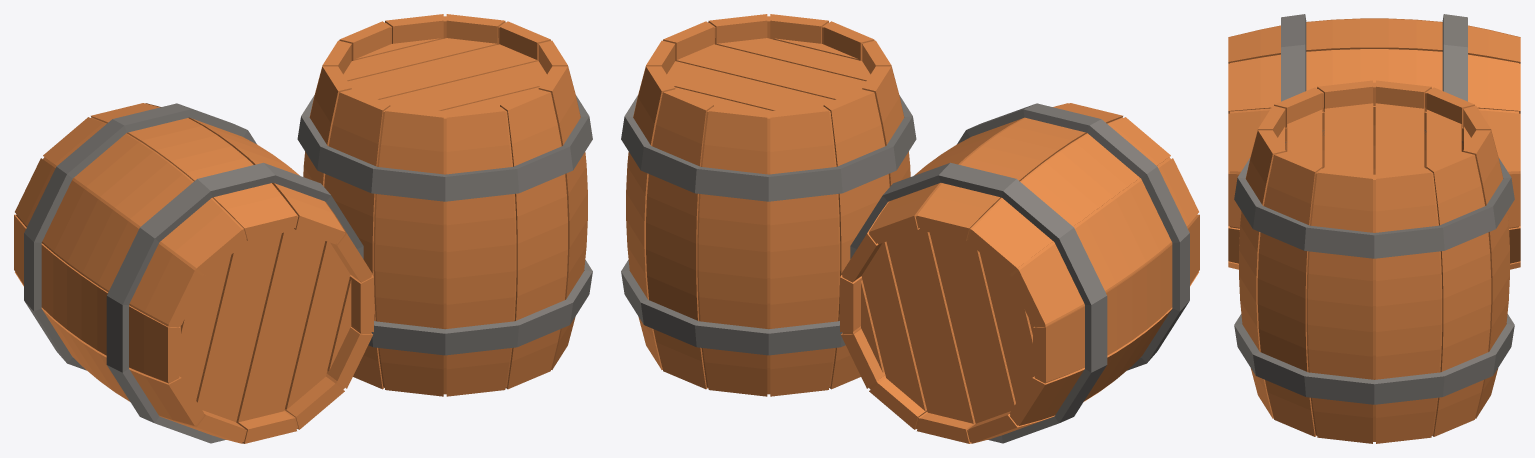
File: taru.glb
3 renders of one model, left to right at view 1: azimuth 30°, elevation 25°; view 2: azimuth 150°, elevation 25°; view 3: azimuth 270°, elevation 25°, orthographic. The views are drawn at different scales.
Parts seen in each view (by area): view 1: 円柱; view 2: 円柱; view 3: 円柱.
Boxes of the visible parts, x1,y1,x2,y2 form: 円柱: (14, 14, 592, 443); 円柱: (621, 14, 1199, 443); 円柱: (1228, 14, 1520, 443).
Size of the model in its own units: 4.72 by 2.5 by 2.5.
